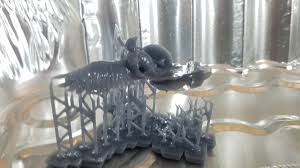Fail: (50, 38, 229, 168)
